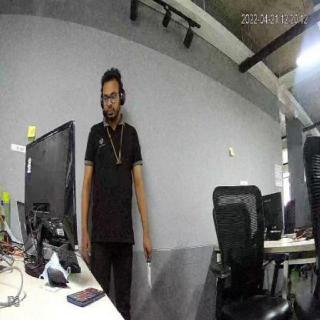knife: (145, 256, 157, 293)
